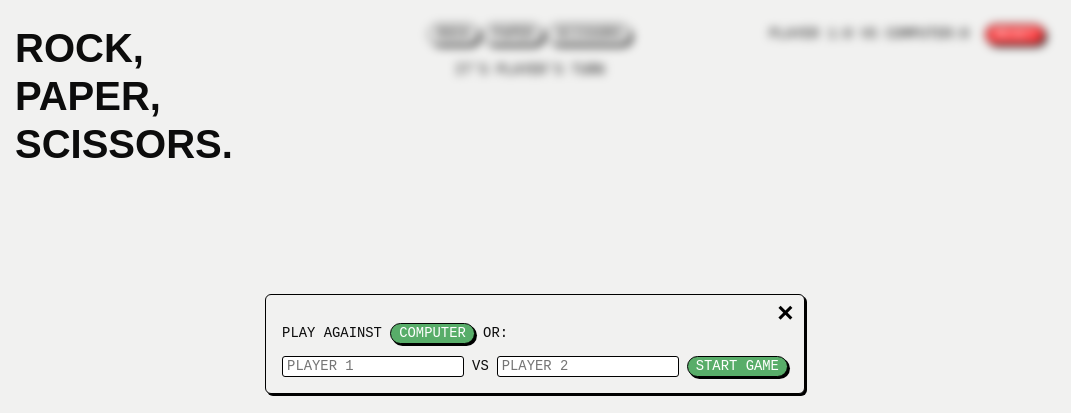
Test: Input tests › should show correct input name
Type "Hej" into the field with placeholder "PLAYER 1" at (373,367), box [282,356,464,377]
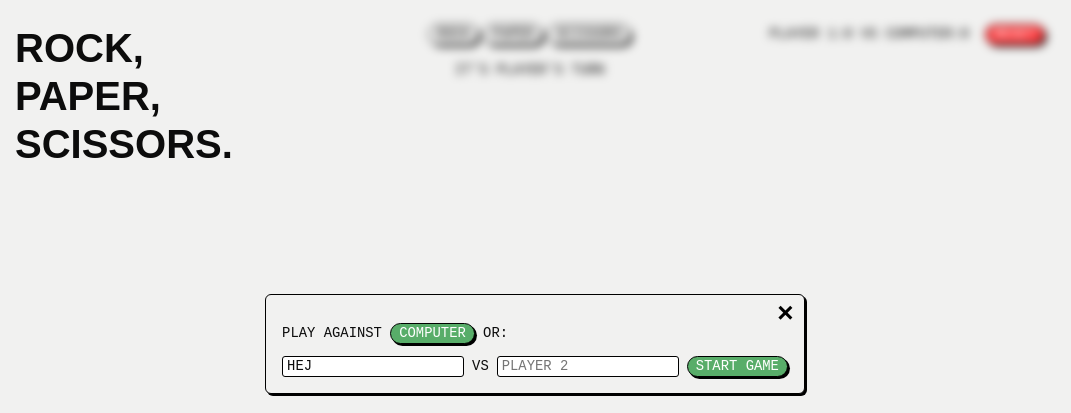
Type "Hej2" into the field with placeholder "PLAYER 2" at (588,367), box [497,356,679,377]
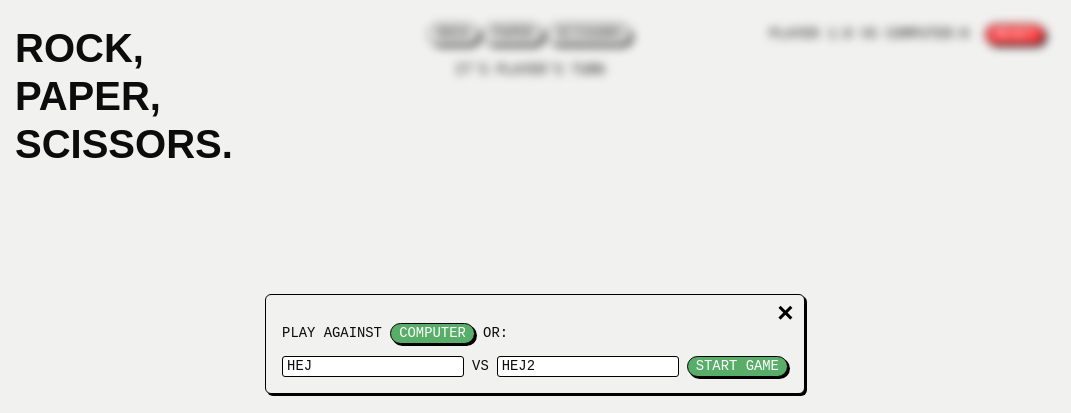
Click the button with test id "startBtn" at (738,367), box [687,356,788,377]
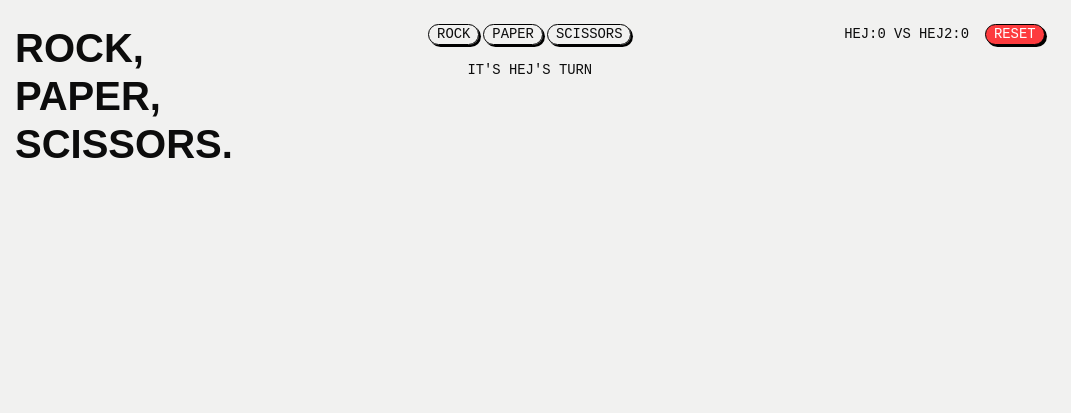
Expected: the text with test id "scoreboardCy" reads "Hej:0 vs Hej2:0", [844,25,969,44]
